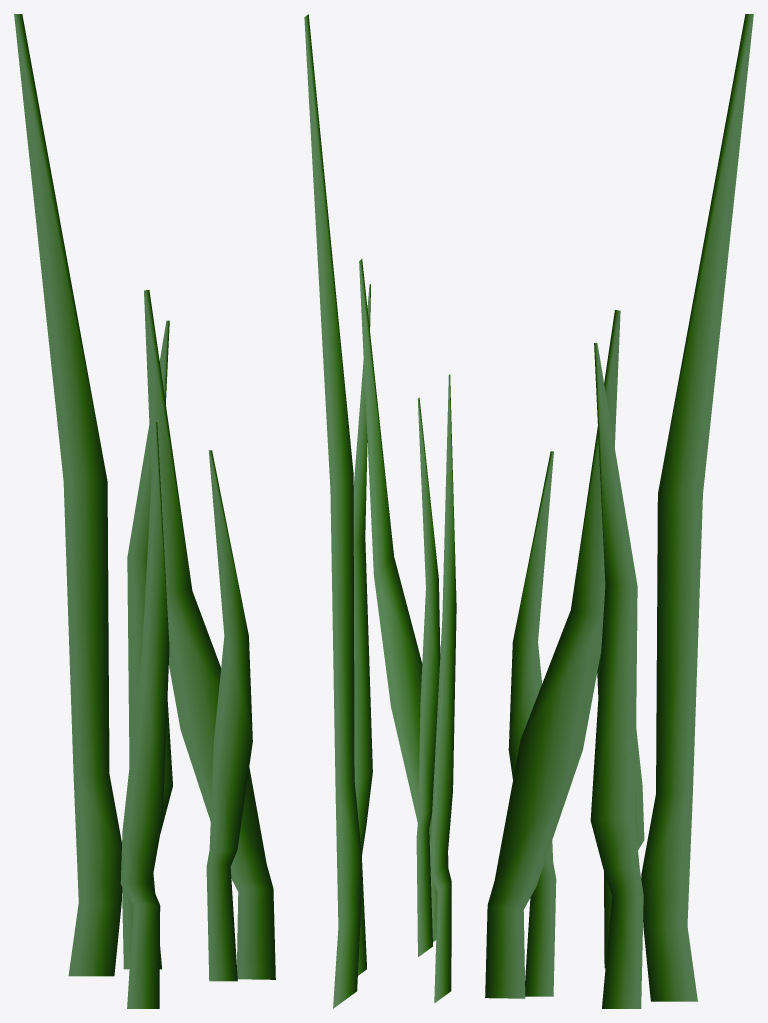
The model's file is GAMEJAMPUFFER - Grass 1.fbx.
The picture shows the model from 3 angles, left to right: view 1: azimuth 90°, elevation 25°; view 2: azimuth 150°, elevation 25°; view 3: azimuth 270°, elevation 25°; orthographic projection. The views are drawn at different scales.
Parts seen in each view (by area): view 1: Plane.033; view 2: Plane.033; view 3: Plane.033.
Part boxes in pixels (box(x1,y1,x2,y2)): Plane.033: box(14, 14, 275, 1008); Plane.033: box(304, 14, 456, 1008); Plane.033: box(485, 14, 753, 1008).
Bounding box in the file's own units: 18.22 × 206 × 50.78.
1 material, 1 textured.
